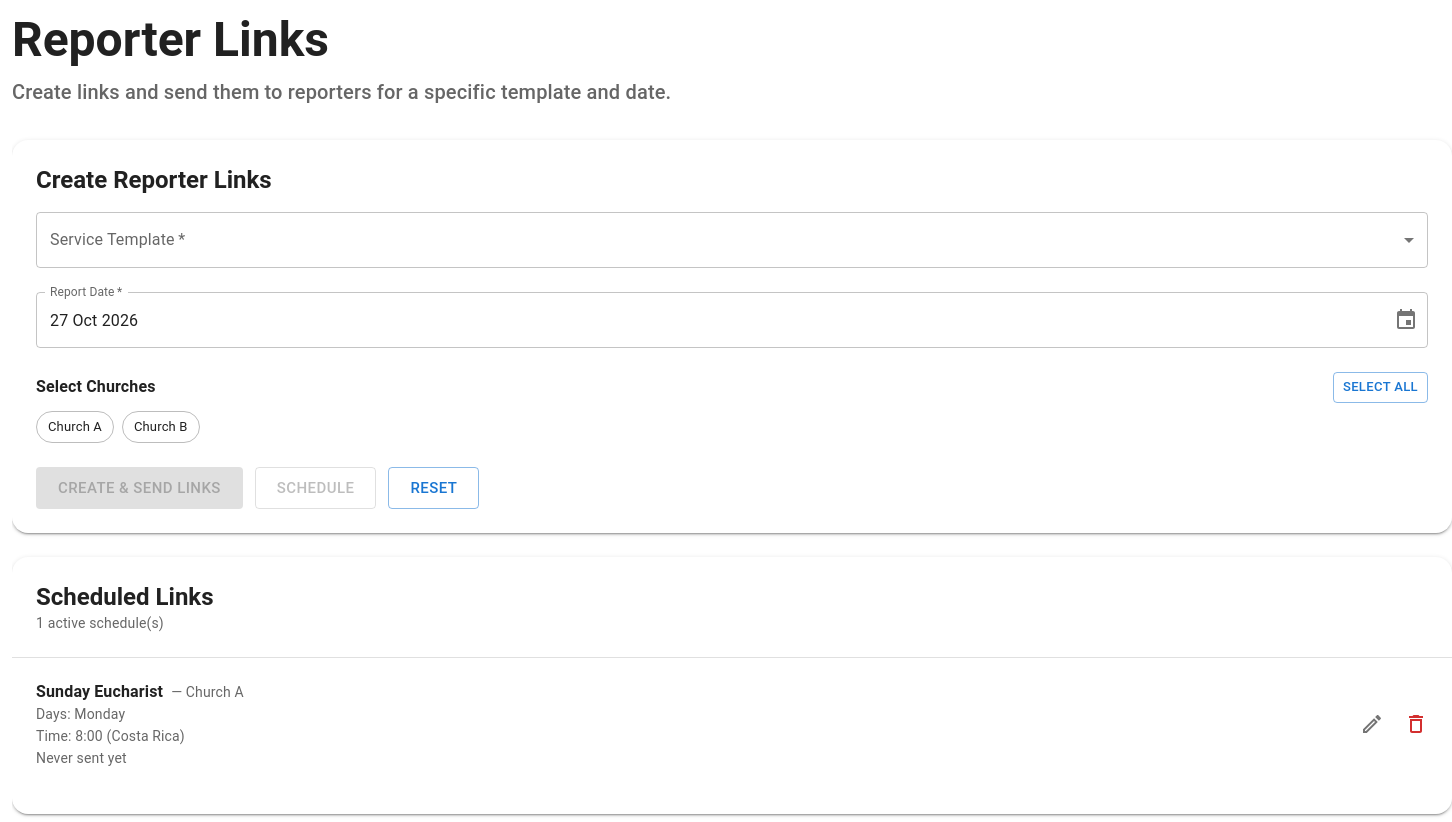
it: ReporterLinkManagementPage – schedule section › deletes a schedule and removes it from the list
Step 1. Click the button named "delete schedule" → click(1416, 724), box [1396,704,1436,744]
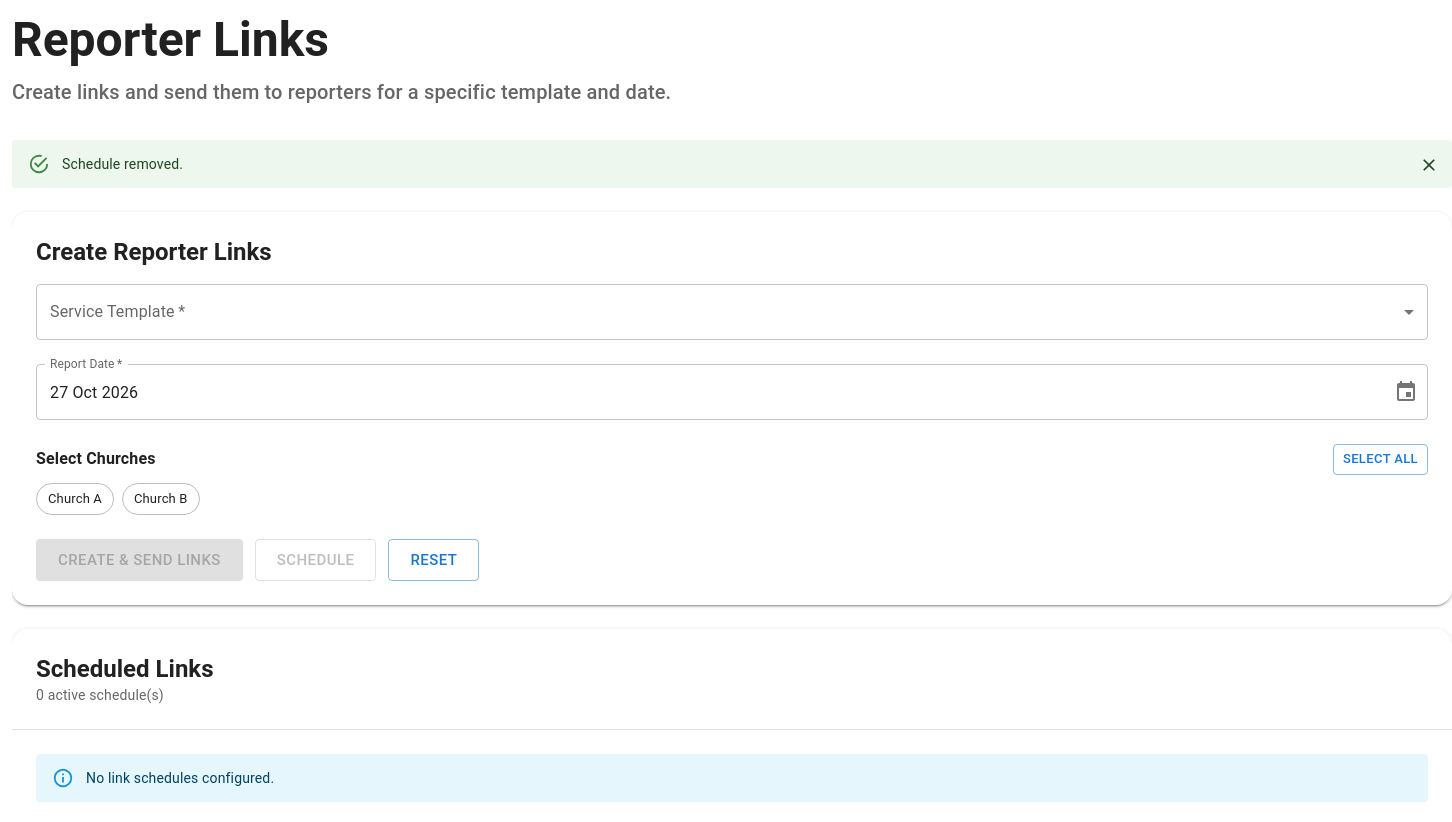
Result: the text "Sunday Eucharist" is gone
Result: the text "Schedule removed." is shown at [62,156,183,172]
